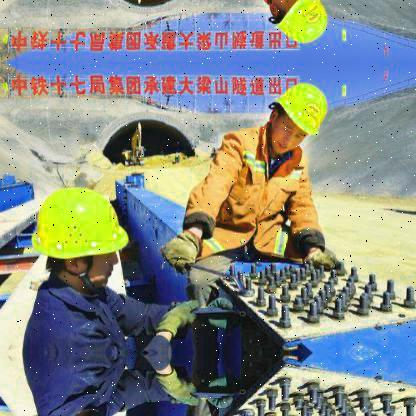Helmet: (35, 190, 126, 289), (248, 80, 326, 160), (257, 0, 332, 47)
